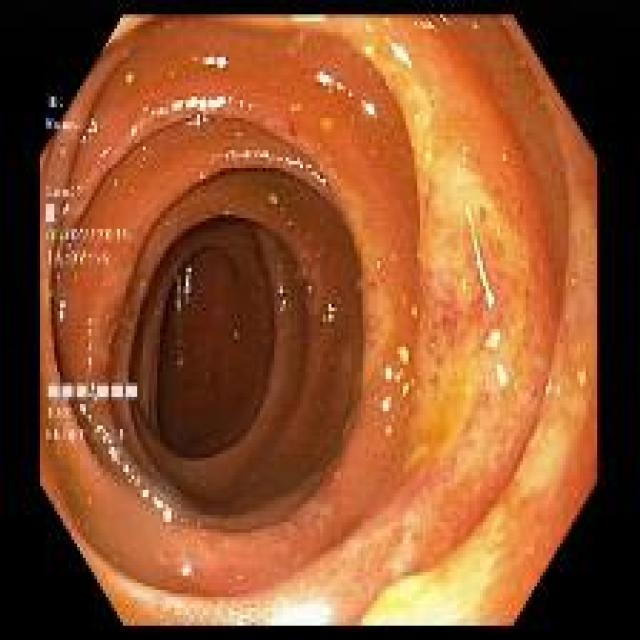ulcerative-colitis: (281, 19, 568, 623)
